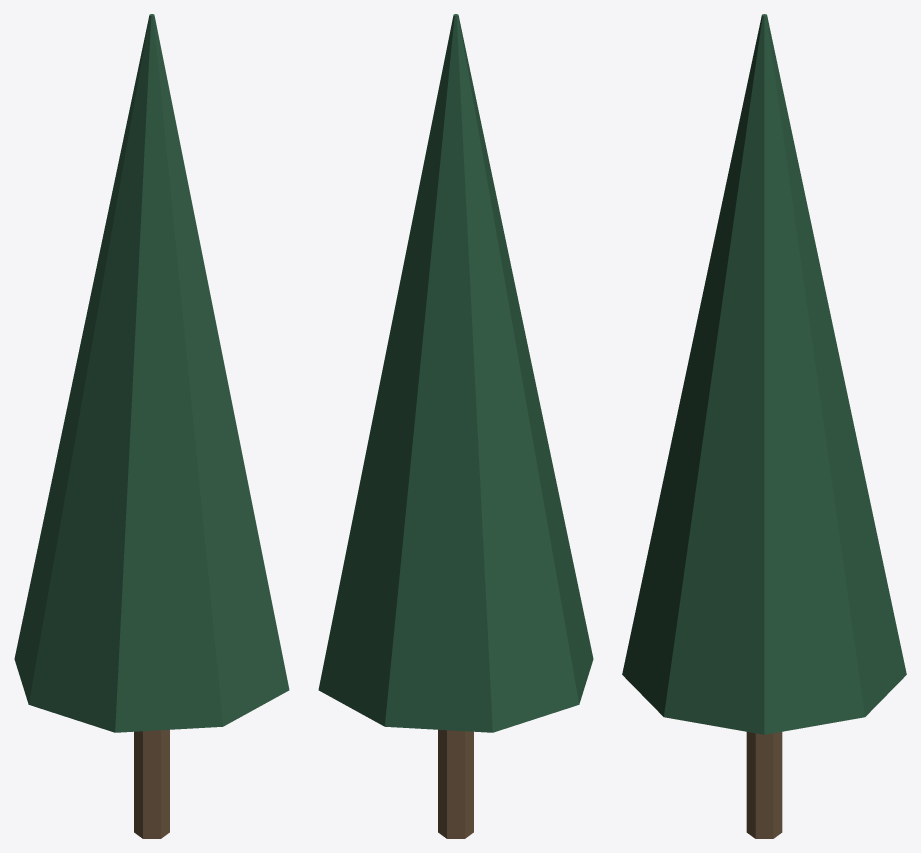
File: norway-spruce-narrow_lod1.glb
3 views of the same model, side by side, from view 1: azimuth 30°, elevation 25°; view 2: azimuth 150°, elevation 25°; view 3: azimuth 270°, elevation 25° (orthographic).
Parts seen in each view (by area): view 1: RF_SpruceNarrow_Crown, RF_SpruceNarrow_Trunk; view 2: RF_SpruceNarrow_Crown, RF_SpruceNarrow_Trunk; view 3: RF_SpruceNarrow_Crown, RF_SpruceNarrow_Trunk.
Part boxes in pixels (x1,y1,x2,y2): RF_SpruceNarrow_Crown: [14, 14, 289, 732]; RF_SpruceNarrow_Trunk: [134, 729, 169, 838]; RF_SpruceNarrow_Crown: [318, 14, 593, 732]; RF_SpruceNarrow_Trunk: [438, 729, 473, 838]; RF_SpruceNarrow_Crown: [622, 14, 906, 734]; RF_SpruceNarrow_Trunk: [746, 732, 782, 838].
Size of the model in its own units: 5.4 by 17.1 by 5.4.
